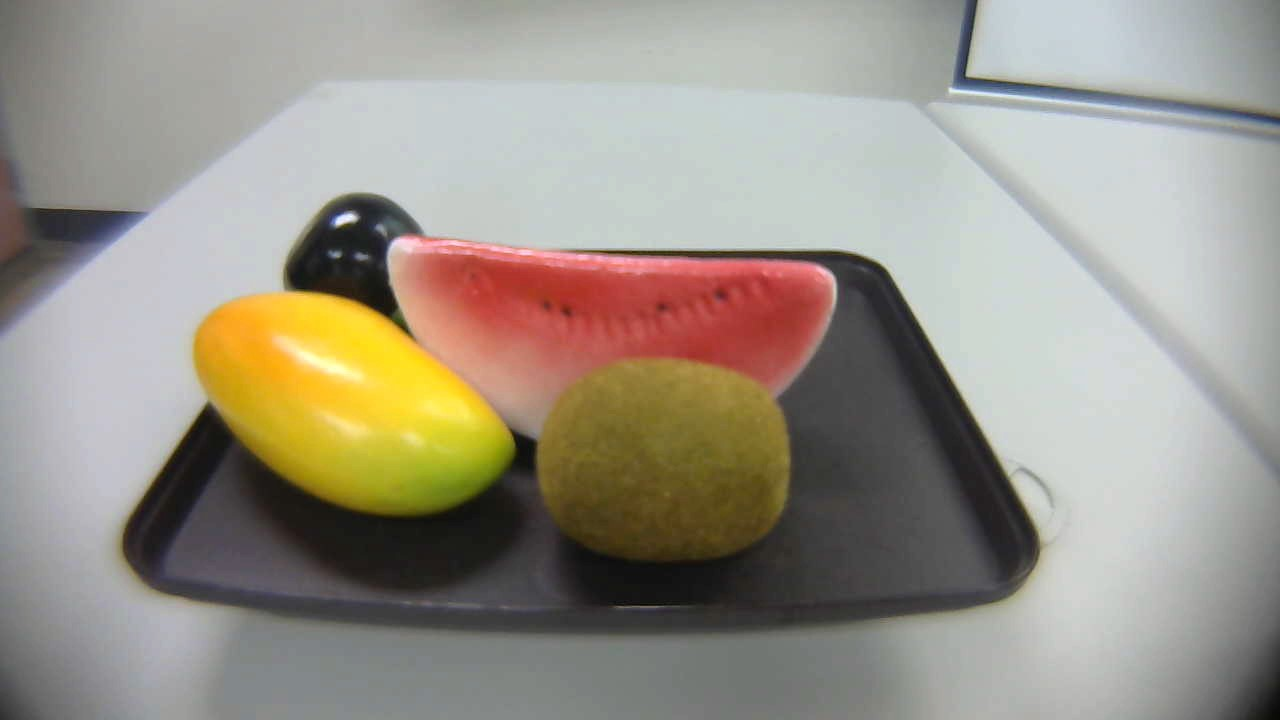kiwi fruit: (537, 356, 794, 558)
mangosteen: (261, 186, 445, 340)
water melon: (383, 221, 840, 448)
yellow mango: (192, 286, 525, 531)
